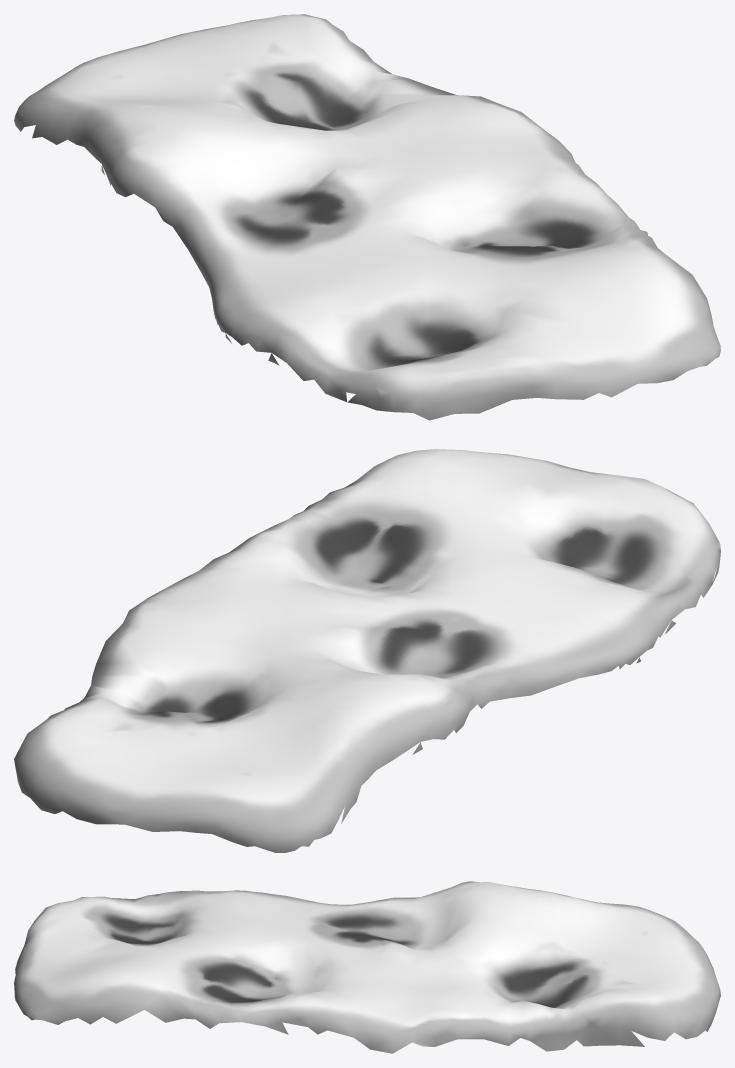
Rendered from Sleds.fbx.
3 renders of one model, top to bottom at view 1: azimuth 30°, elevation 25°; view 2: azimuth 150°, elevation 25°; view 3: azimuth 270°, elevation 25°, orthographic. The views are drawn at different scales.
Parts seen in each view (by area): view 1: Куб.168; view 2: Куб.168; view 3: Куб.168.
Boxes of the visible parts, <box> form: Куб.168: <box>14,14,720,420</box>; Куб.168: <box>14,449,720,852</box>; Куб.168: <box>14,881,720,1053</box>.
Bounding box in the file's own units: 311 × 55.28 × 594.
1 material, 1 textured.
